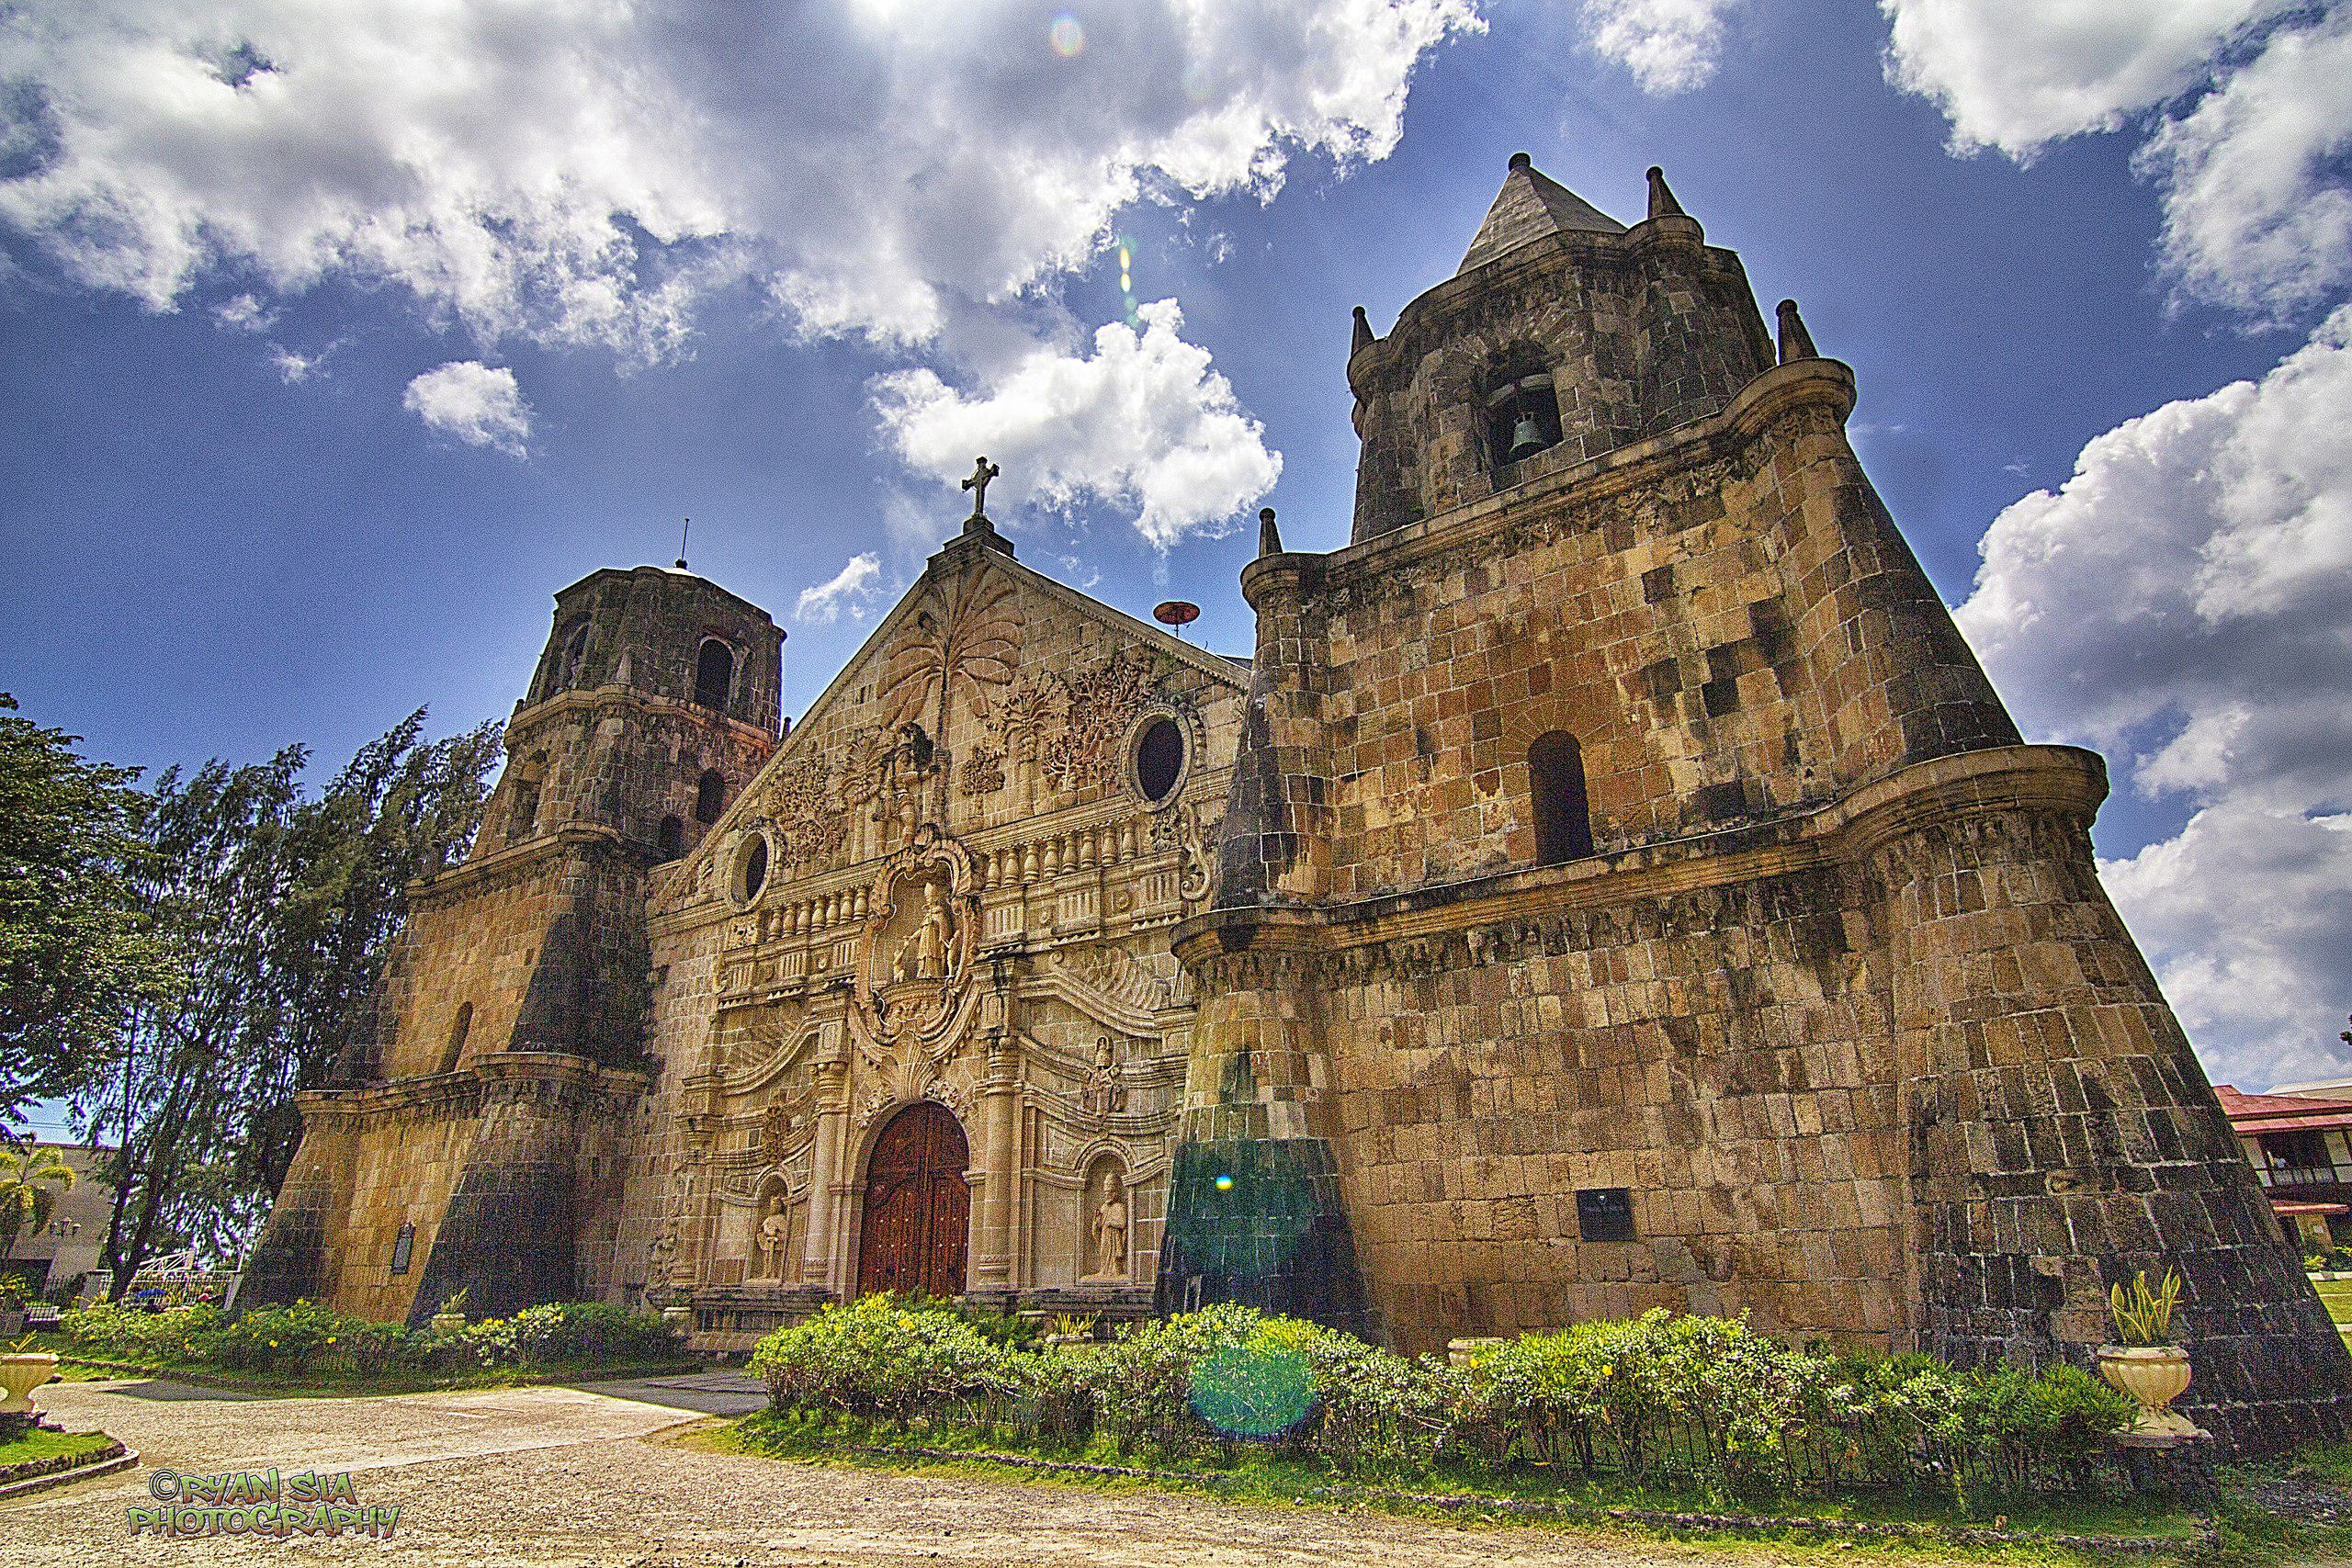miagao_church_miagao_iloilo: (255, 140, 2350, 1482)
